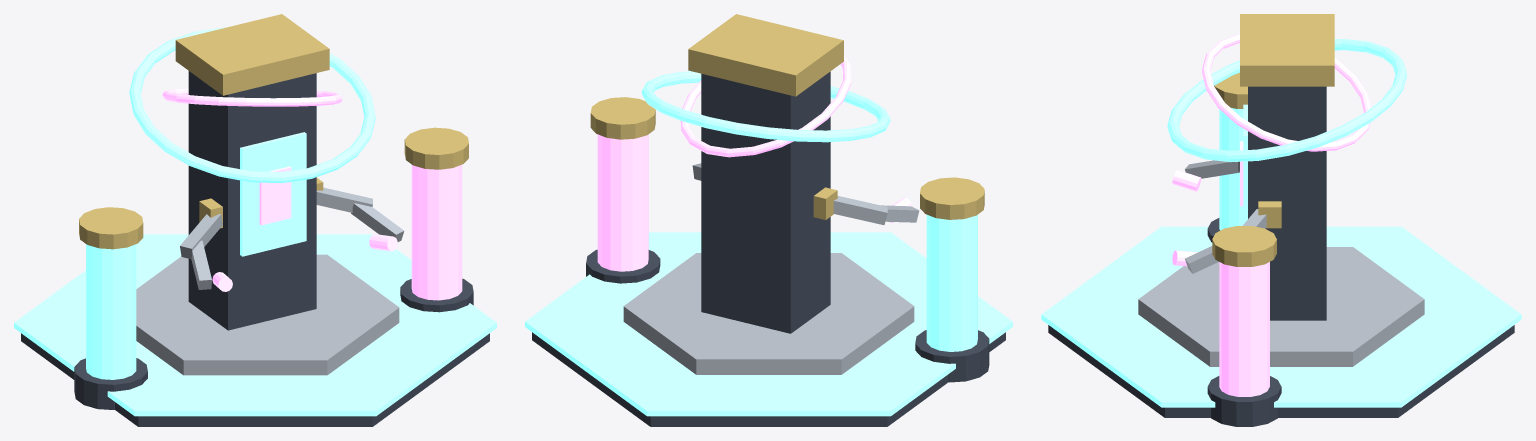
The model's file is node_event_monolith.glb.
The picture shows the model from 3 angles, left to right: view 1: azimuth 30°, elevation 25°; view 2: azimuth 150°, elevation 25°; view 3: azimuth 270°, elevation 25°; orthographic projection.
Visible parts, largest first — view 1: HexRimGlow, MonolithSpireCore, InnerStepDais, MonolithCrown, CapGlassTube_R, CapGlassTube_L, HoloTorusOuter, MonolithFrontScreen, HexTechDais, CapTopCrown_R, CapTopCrown_L, CapPylonBase_L (+7 smaller); view 2: HexRimGlow, MonolithSpireCore, InnerStepDais, MonolithCrown, CapGlassTube_R, CapGlassTube_L, HoloTorusOuter, HexTechDais, CapTopCrown_L, CapTopCrown_R, HoloTorusInner, CapPylonBase_L (+4 smaller); view 3: HexRimGlow, InnerStepDais, MonolithSpireCore, MonolithCrown, CapGlassTube_R, HoloTorusOuter, HexTechDais, HoloTorusInner, CapPylonBase_R, CapTopCrown_R, CapGlassTube_L, CapTopCrown_L (+4 smaller).
Part boxes in pixels (x1,y1,x2,y2): HexRimGlow: (14,234,496,416); MonolithSpireCore: (188,71,316,330); InnerStepDais: (136,254,399,375); MonolithCrown: (175,14,329,95); CapGlassTube_R: (411,164,462,300); CapGlassTube_L: (86,244,136,379); HoloTorusOuter: (129,27,375,183); MonolithFrontScreen: (240,132,306,256); HexTechDais: (21,333,489,426); CapTopCrown_R: (404,127,468,169); CapTopCrown_L: (79,207,143,249); CapPylonBase_L: (74,358,147,409); HexRimGlow: (525,232,1012,416); MonolithSpireCore: (701,71,830,333); InnerStepDais: (623,253,914,374); MonolithCrown: (688,14,843,96); CapGlassTube_R: (597,134,648,271); CapGlassTube_L: (926,214,977,351); HoloTorusOuter: (641,71,890,142); HexTechDais: (532,332,1005,426); CapTopCrown_L: (920,177,984,219); CapTopCrown_R: (590,97,655,139); HoloTorusInner: (680,54,851,157); CapPylonBase_L: (915,330,989,382); HexRimGlow: (1041,226,1521,407); InnerStepDais: (1138,247,1424,366); MonolithSpireCore: (1248,86,1326,320); MonolithCrown: (1240,14,1334,86); CapGlassTube_R: (1219,262,1269,396); HoloTorusOuter: (1167,39,1406,162); HexTechDais: (1048,325,1514,417); HoloTorusInner: (1202,34,1371,151); CapPylonBase_R: (1207,376,1281,426); CapTopCrown_R: (1212,226,1276,266); CapGlassTube_L: (1219,108,1243,230); CapTopCrown_L: (1214,72,1247,108).
Size of the model in its own units: 3.86 by 2.8 by 4.16.
